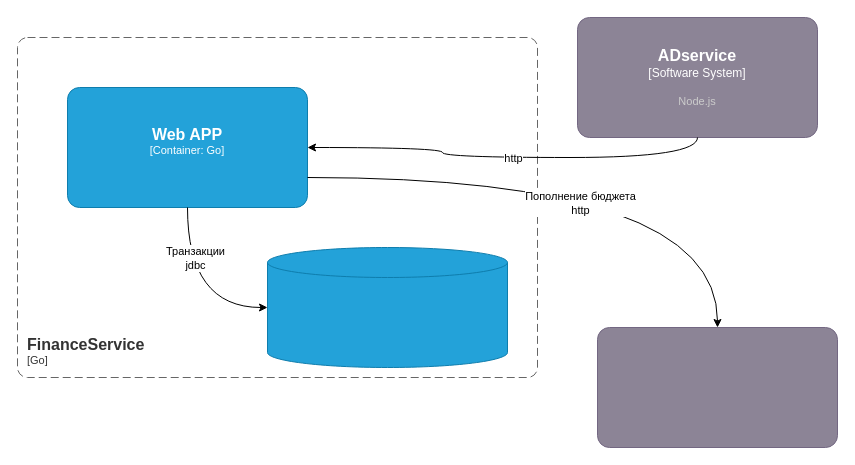
This 855x465 diagram has some shape labels left out. Here are the shapes that lost their labels. From the top down, the centre of each, then its label:
(x=387, y=307): PostgreSQL [Container: PostgreSQL]
(x=717, y=387): PaymentGateway []
